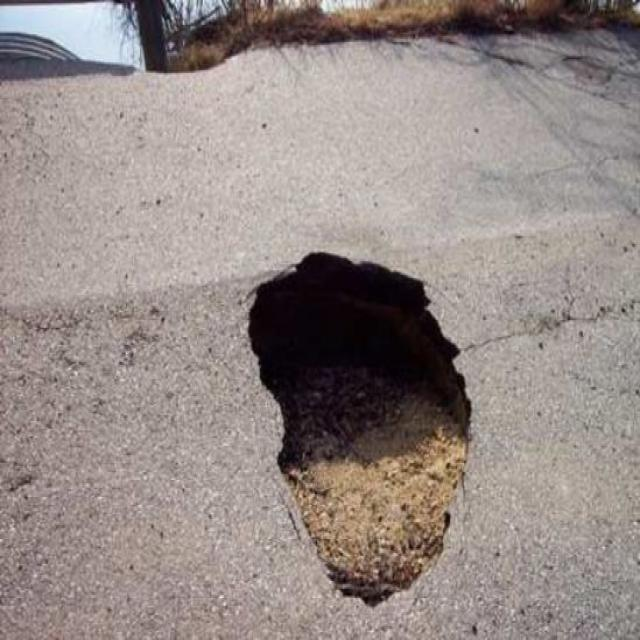Pothole: (244, 245, 477, 607)
